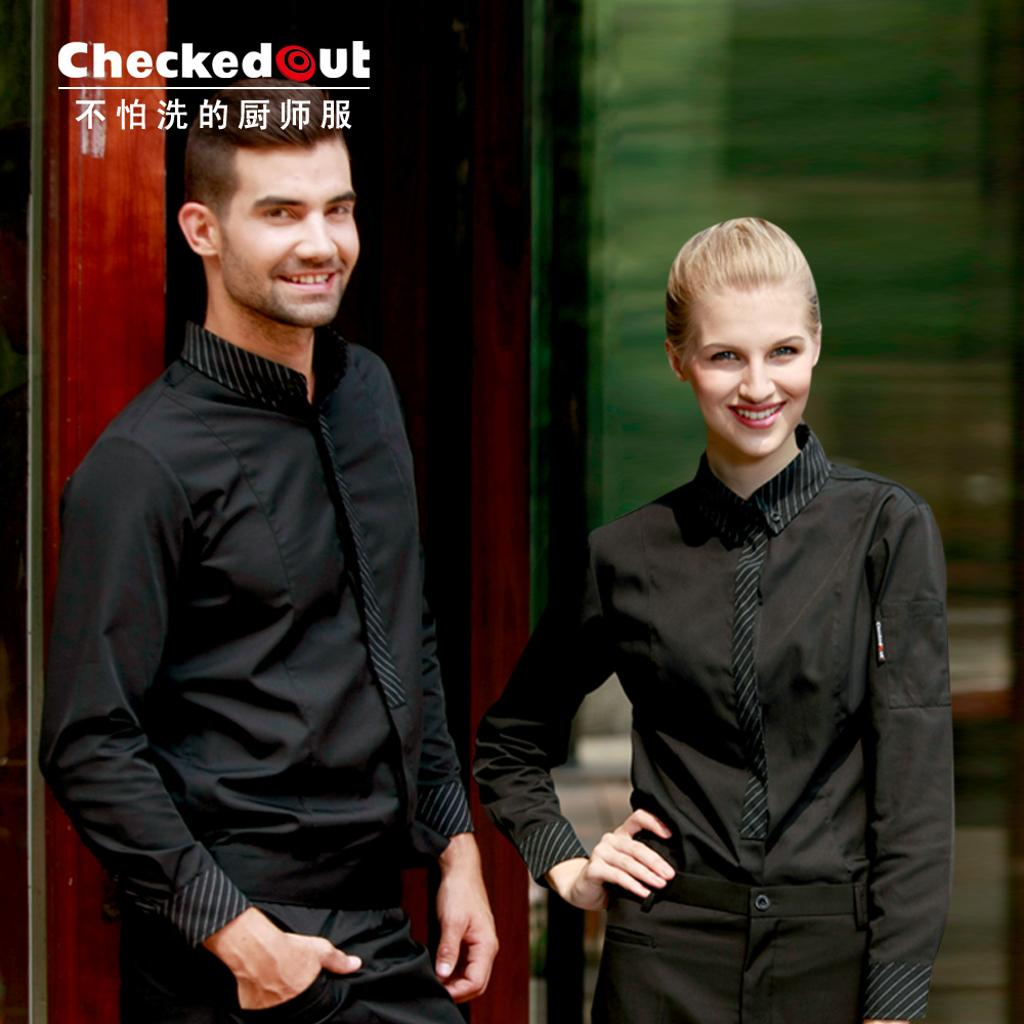face: (222, 134, 358, 324), (684, 296, 814, 460)
